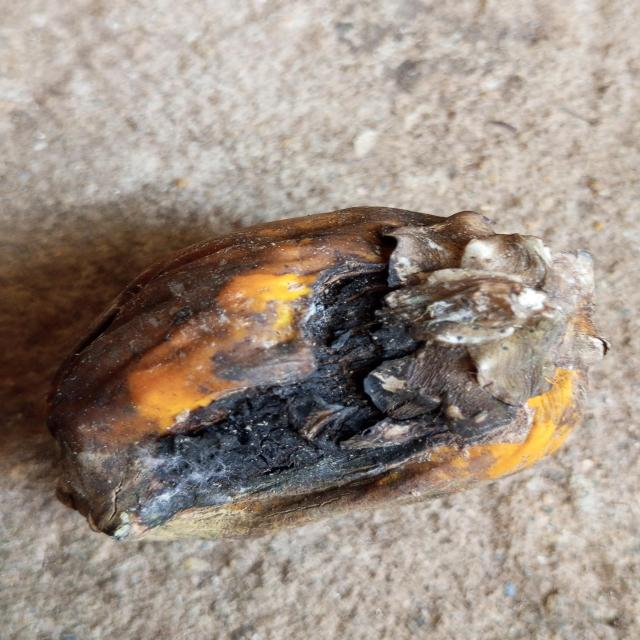damaged: (45, 206, 605, 546)
